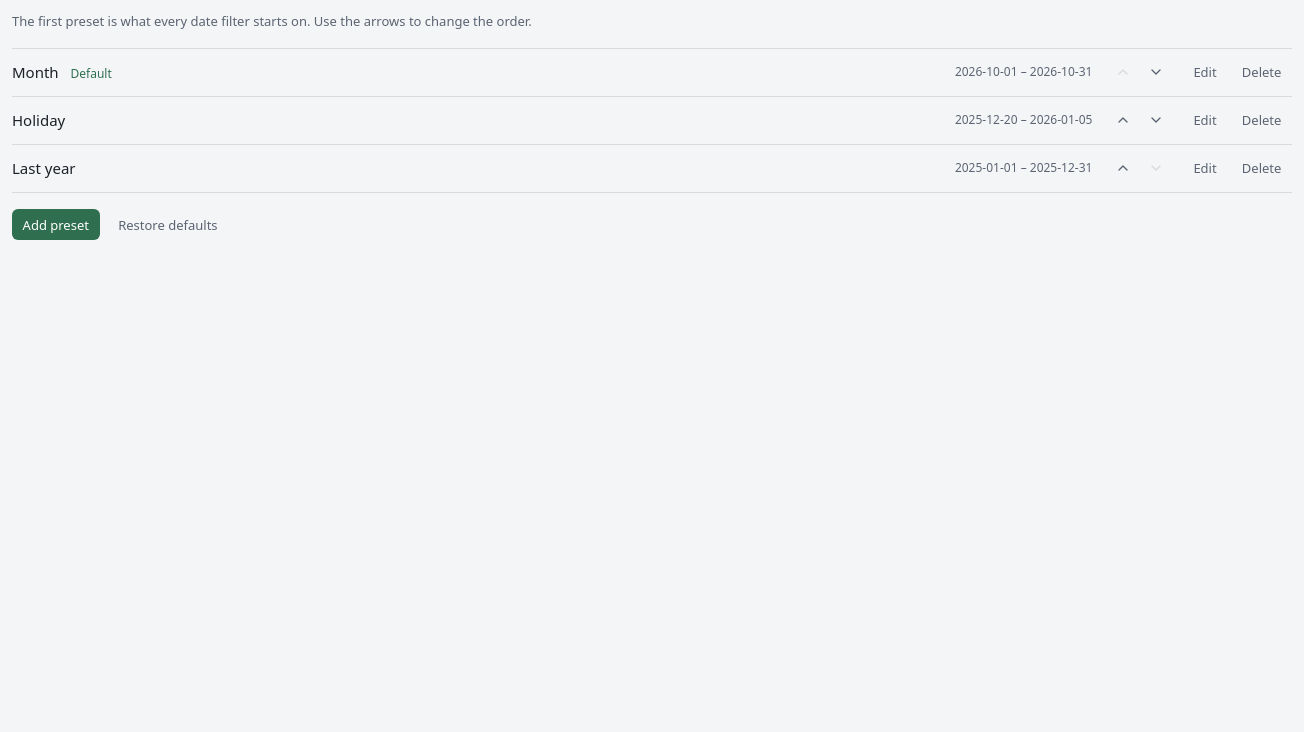
Test: DatePresetsComponent › edits a relative preset and saves it in place
The image size is (1304, 732).
Click the button "Edit" next to "2026-10-01 – 2026-10-31". click: coordinates (1205, 72)
box: [1183, 56, 1227, 88]
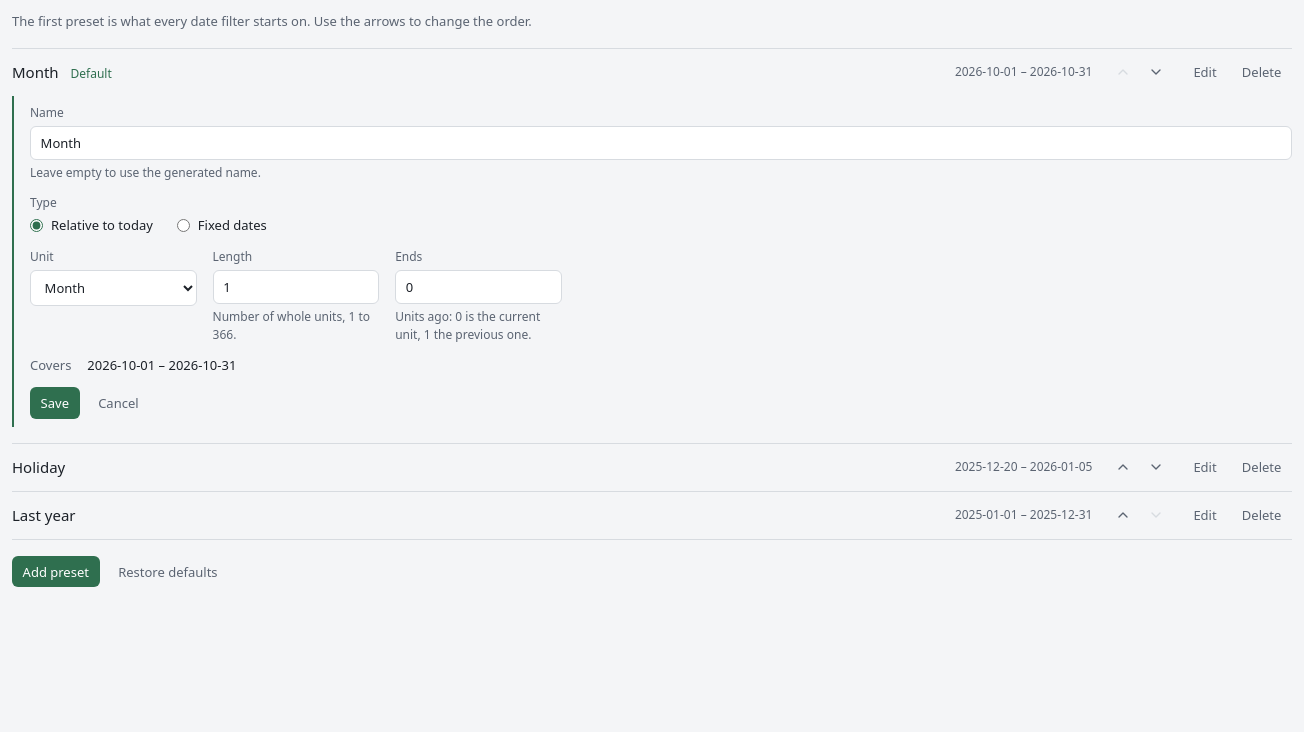
Replace the text in the field labelled "Name" with "  Quarter  ". click: coordinates (661, 143)
box: [30, 126, 1292, 160]
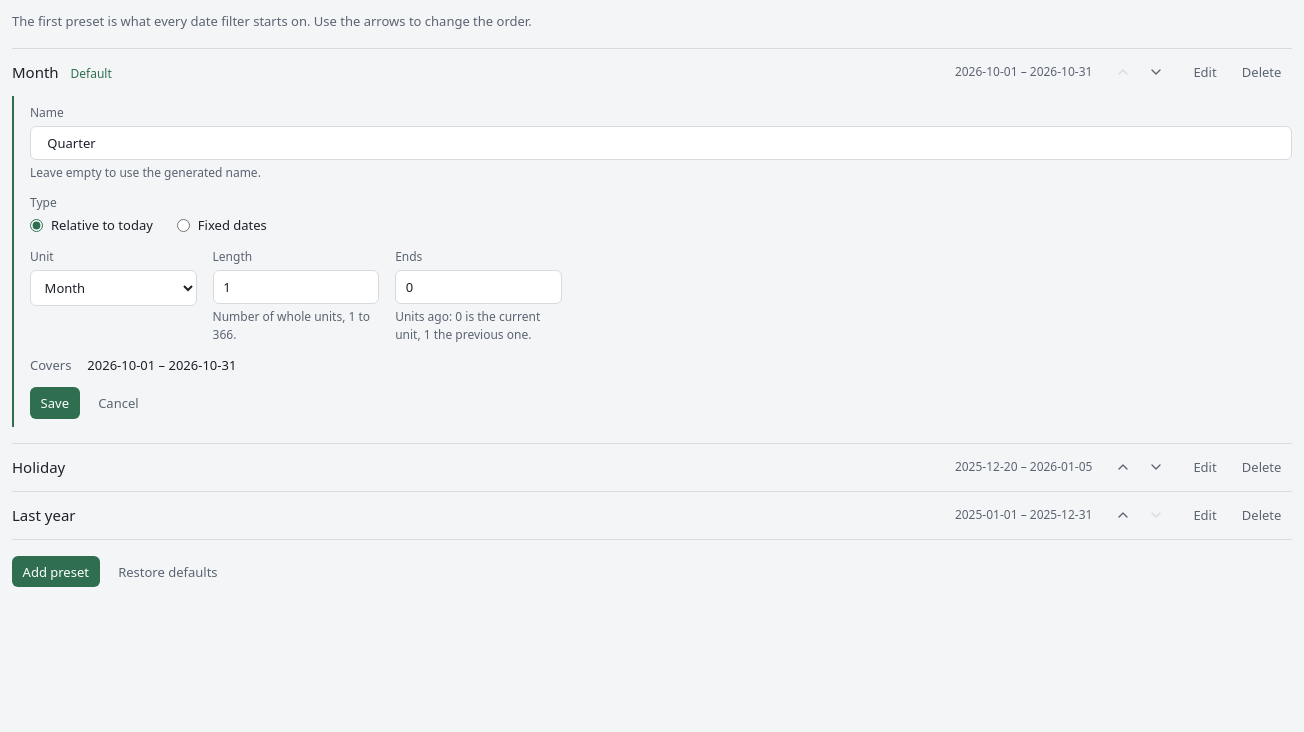
Select "Quarter" in the dropdown labelled "Unit". click: coordinates (113, 288)
box: [30, 270, 197, 306]
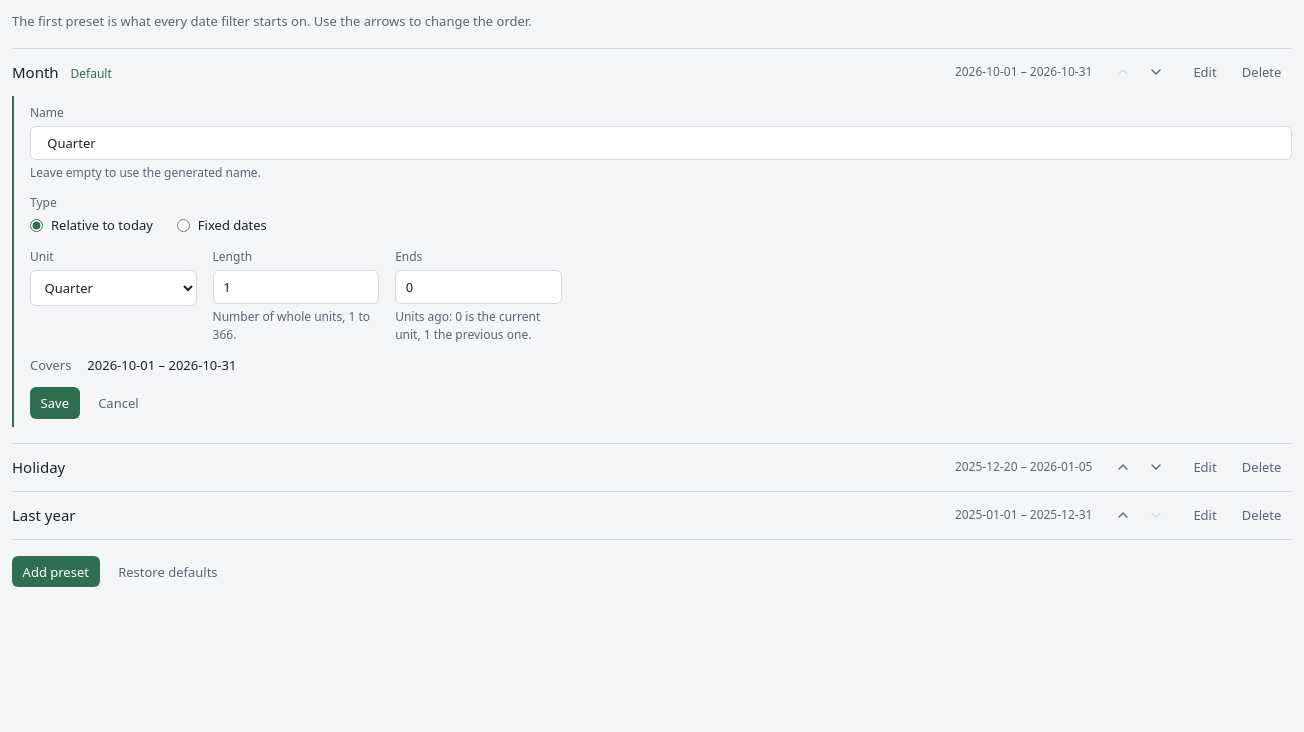
Replace the text in the number field labelled "Length" with "2". click: coordinates (296, 287)
box: [213, 270, 379, 304]
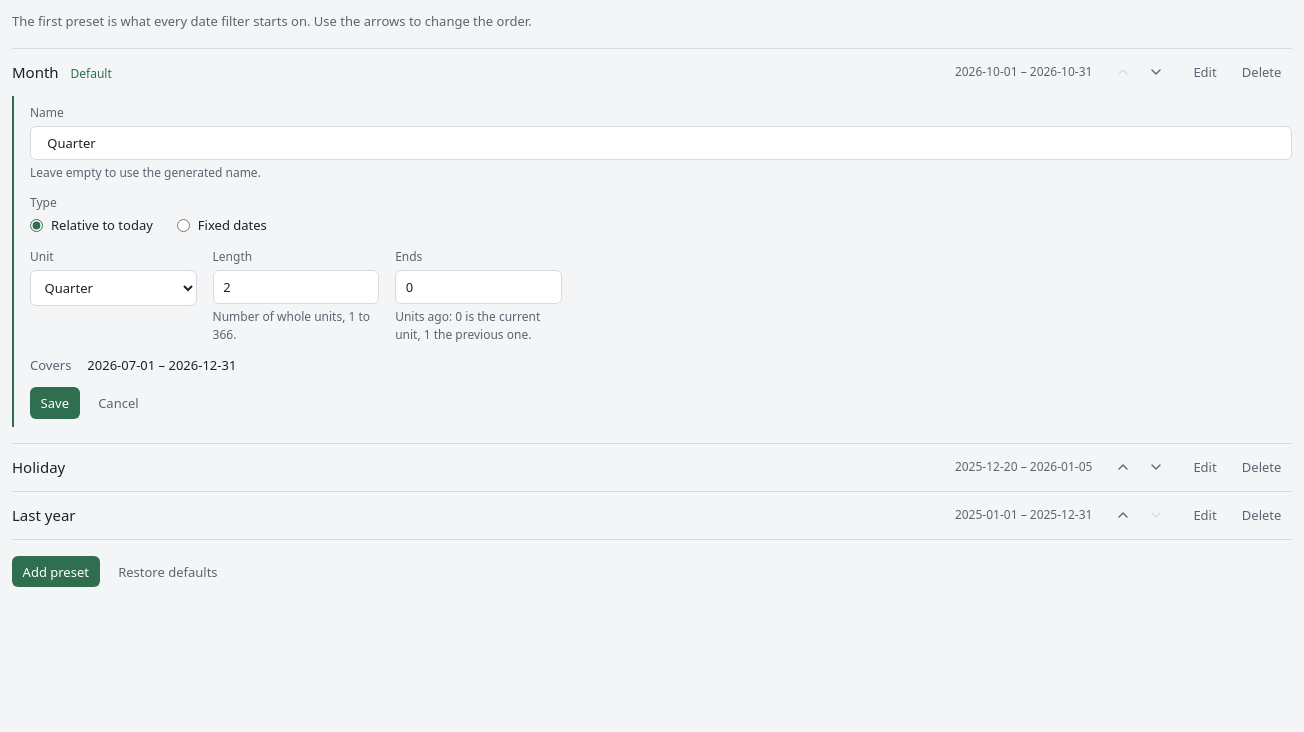
Replace the text in the number field labelled "Ends" with "1". click: coordinates (478, 287)
box: [395, 270, 562, 304]
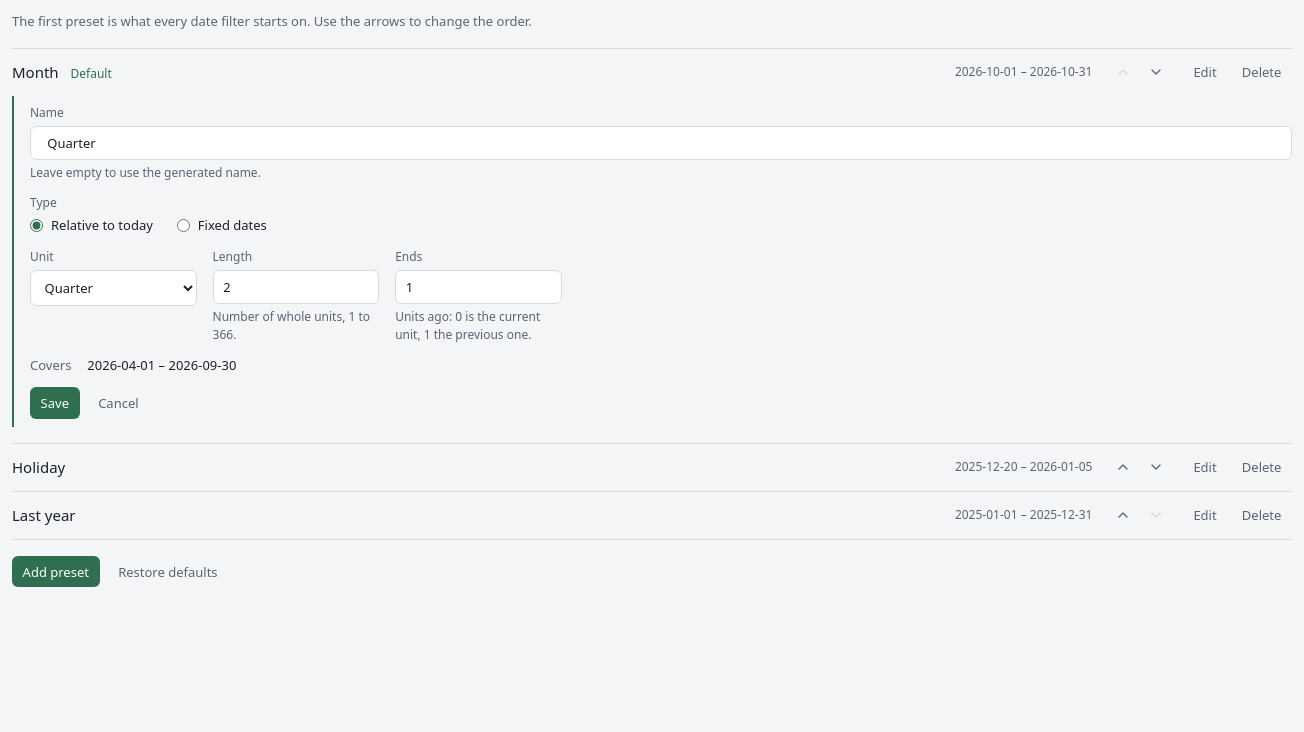
Expected: the element with class "editor__preview" is shown, [30, 356, 236, 374]
Click the button with class "editor__save". click: coordinates (55, 403)
box: [30, 387, 80, 419]
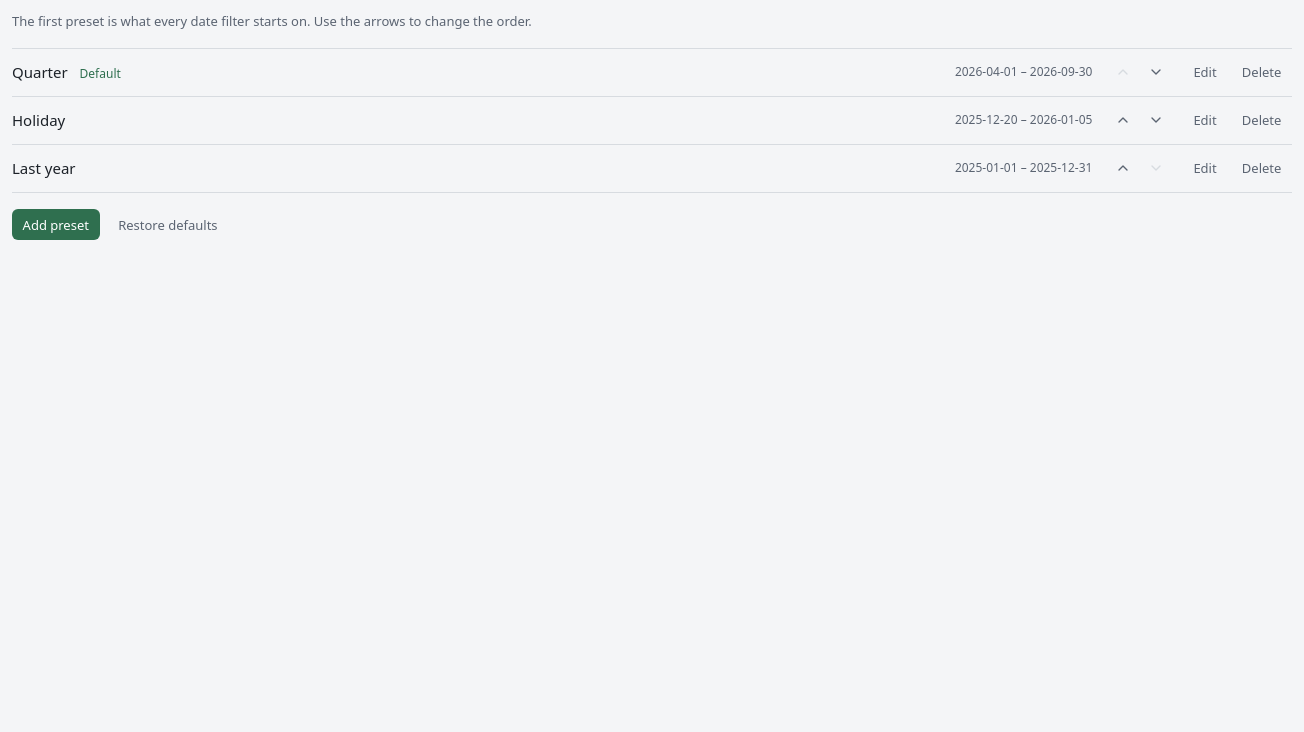
Expected: the form with class "editor" is gone
